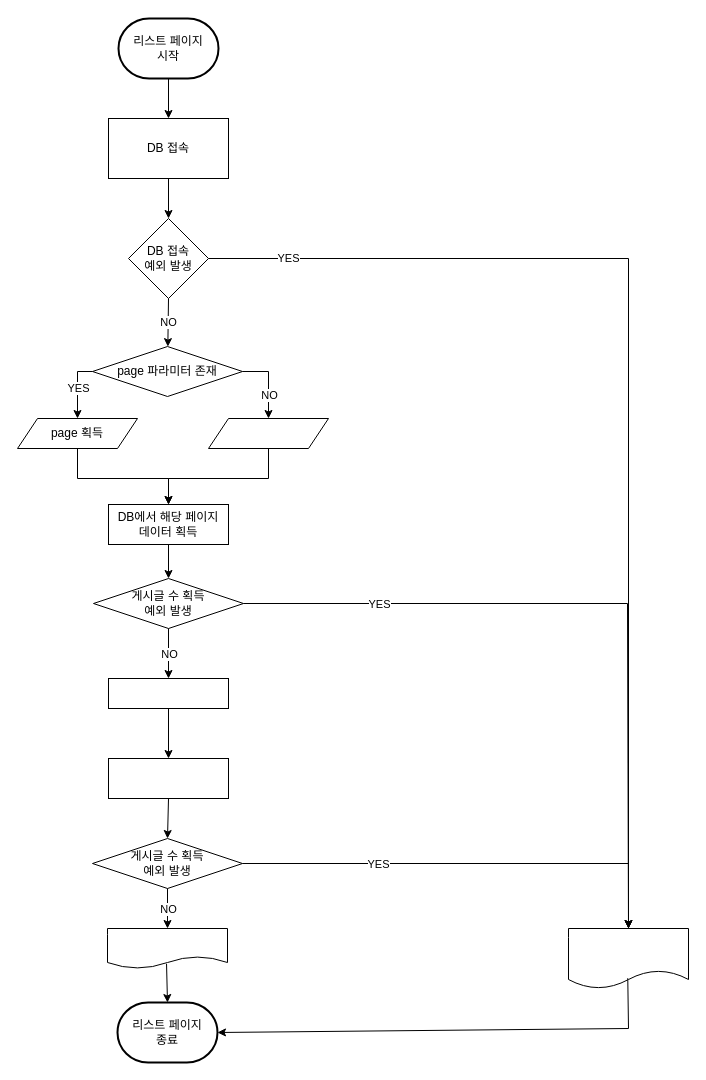
Image size: 706x1080. Some labels were removed from this diagram. The centre of each missing label's shape, as x and y in pixels:
"1 획득" goes at (268,433).
"DB 게시글 조회" goes at (168,778).
"예외 메시지 출력" goes at (628,958).
"페이지 관련 설정 셋팅" goes at (168,693).
"화면에 출력" goes at (167,948).
